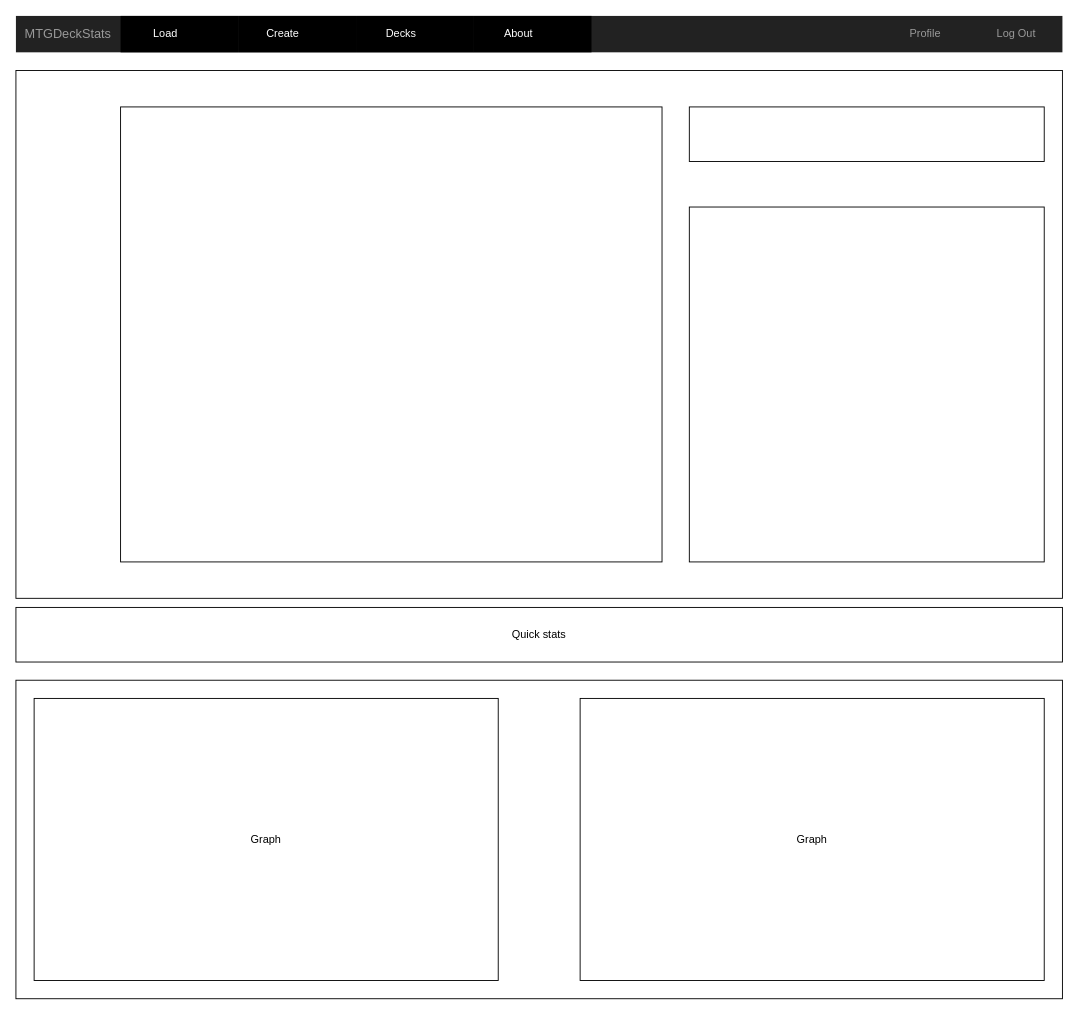
Image size: 1078x1015. Some labels were removed from this diagram. The centre of each missing label's shape, as x and y in pixels:
"Card image" belongs at (x=866, y=384).
"Deck container" belongs at (x=391, y=334).
"Search" belongs at (x=866, y=134).
